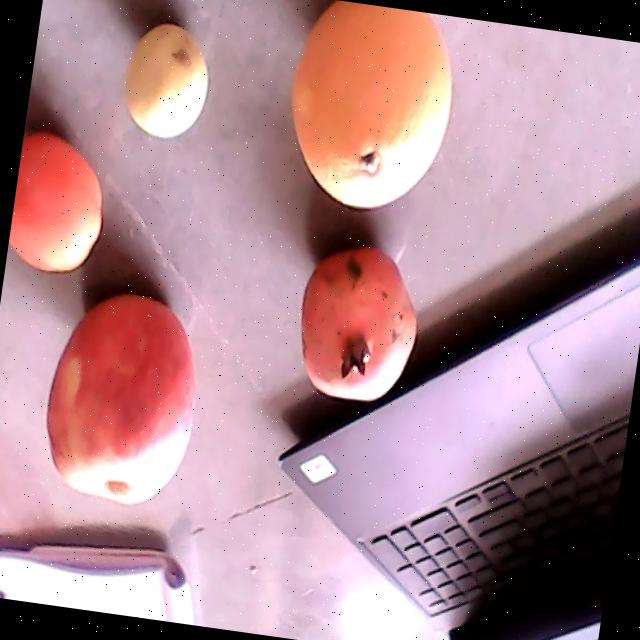apple: (46, 293, 196, 503)
lemon: (125, 22, 208, 138)
orange: (290, 0, 450, 209)
pomegranate: (300, 246, 416, 400)
tomato: (9, 131, 102, 271)
